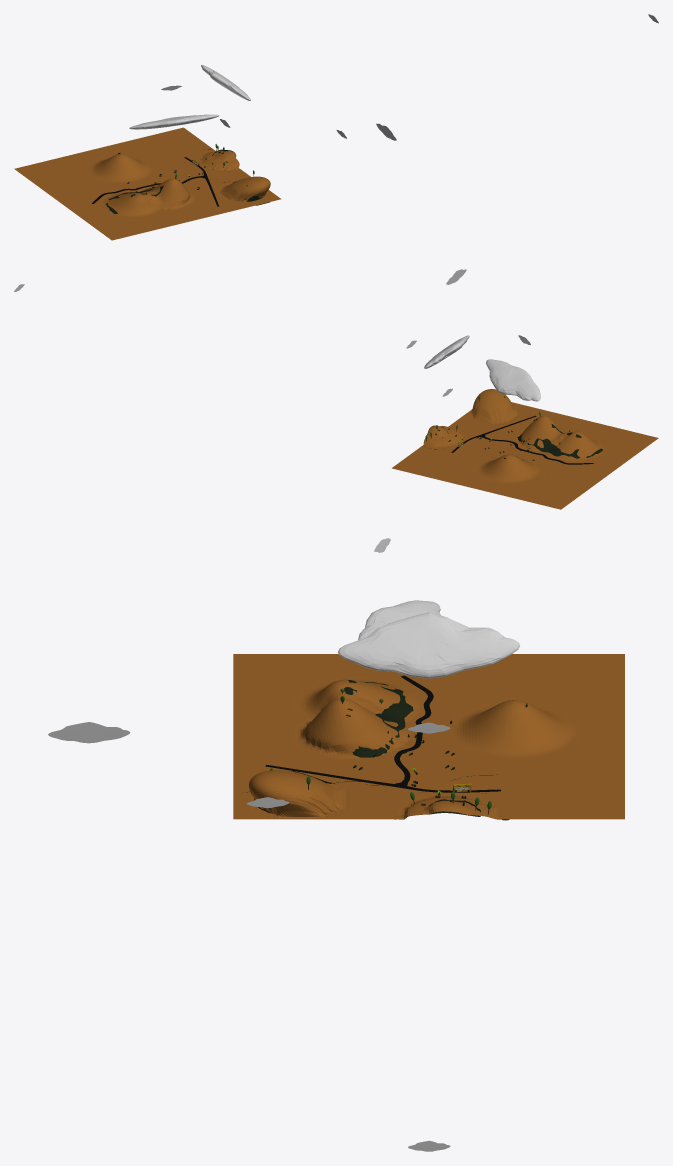
The model's file is cartoony obj.obj.
3 views of the same model, one above another, from view 1: azimuth 30°, elevation 25°; view 2: azimuth 150°, elevation 25°; view 3: azimuth 270°, elevation 25° (orthographic). The views are drawn at different scales.
Parts seen in each view (by area): view 1: Main_Land_Plane.012, Cloud_Sphere, Road_Plane.015; view 2: Main_Land_Plane.012, Cloud_Sphere, Grass_3_Plane.016, Road_Plane.015; view 3: Main_Land_Plane.012, Cloud_Sphere, Road_Plane.015, Grass_3_Plane.016.
Boxes of the visible parts, x1=… form: Main_Land_Plane.012: x1=14, y1=127, x2=281, y2=240; Cloud_Sphere: x1=129, y1=14, x2=658, y2=140; Road_Plane.015: x1=92, y1=157, x2=219, y2=206; Main_Land_Plane.012: x1=392, y1=389, x2=658, y2=509; Cloud_Sphere: x1=14, y1=269, x2=540, y2=401; Grass_3_Plane.016: x1=492, y1=424, x2=602, y2=460; Road_Plane.015: x1=451, y1=415, x2=593, y2=464; Main_Land_Plane.012: x1=233, y1=654, x2=624, y2=819; Cloud_Sphere: x1=48, y1=538, x2=519, y2=1151; Road_Plane.015: x1=265, y1=675, x2=500, y2=792; Grass_3_Plane.016: x1=344, y1=680, x2=512, y2=757.
Size of the model in its own units: 386 by 66.04 by 163.
